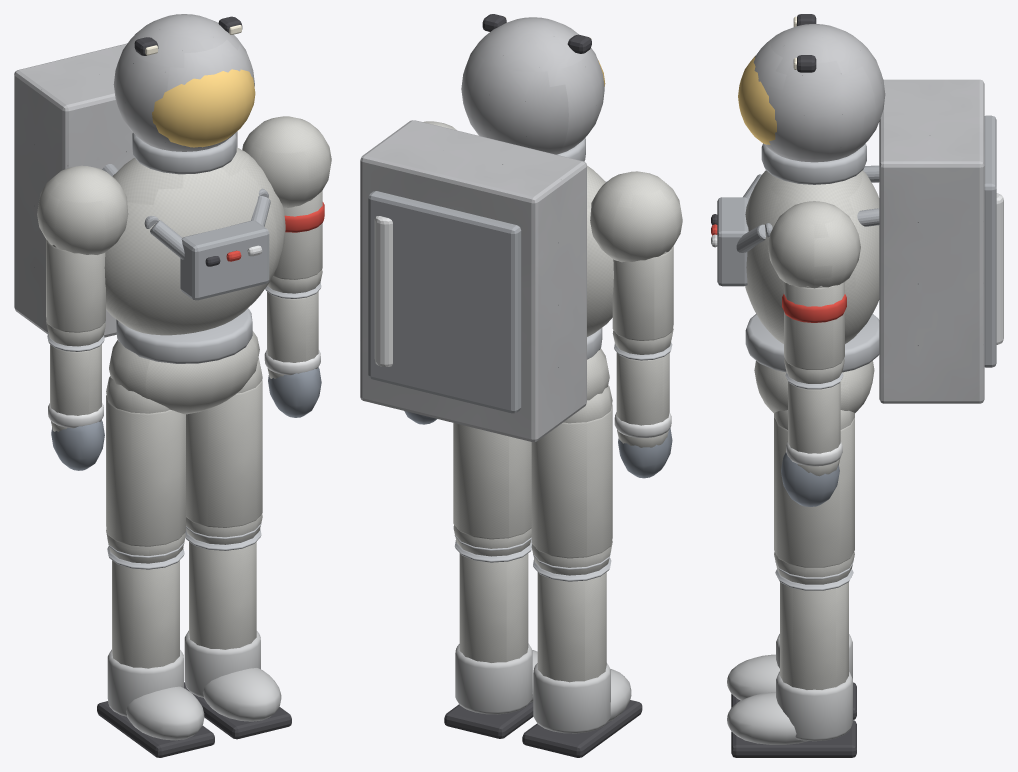
The model's file is astronaut.glb.
The picture shows the model from 3 angles, left to right: view 1: azimuth 30°, elevation 25°; view 2: azimuth 150°, elevation 25°; view 3: azimuth 270°, elevation 25°; orthographic projection.
Parts seen in each view (by area): view 1: Torso, PLSS, Cylinder.026, Cylinder.014, Helmet, Cylinder.030, Cylinder.018, Sphere.012, Sphere, Visor, Sphere.001, Cube (+25 smaller); view 2: PLSS, Cube.004, Helmet, Cylinder.026, Cylinder.014, Cylinder.030, Cylinder.018, Sphere.012, Cylinder.020, Cylinder.019, Cylinder.031, Cylinder.024 (+14 smaller); view 3: PLSS, Helmet, Torso, Cylinder.014, Cylinder.018, Sphere.001, Cylinder.007, Cylinder.019, Cylinder.012, Cube.004, Cylinder, Sphere.011 (+14 smaller).
Boxes of the visible parts, x1,y1,x2,y2 form: Torso: [104, 147, 285, 335]; PLSS: [14, 43, 237, 337]; Cylinder.026: [106, 395, 185, 546]; Cylinder.014: [186, 380, 262, 527]; Helmet: [113, 14, 254, 151]; Cylinder.030: [112, 560, 179, 668]; Cylinder.018: [189, 541, 256, 649]; Sphere.012: [37, 165, 128, 254]; Sphere: [109, 331, 259, 414]; Visor: [152, 69, 255, 147]; Sphere.001: [242, 116, 331, 207]; Cube: [180, 220, 269, 300]; PLSS: [360, 120, 586, 441]; Cube.004: [368, 191, 521, 413]; Helmet: [461, 17, 604, 154]; Cylinder.026: [531, 404, 612, 558]; Cylinder.014: [453, 423, 531, 539]; Cylinder.030: [537, 572, 606, 682]; Cylinder.018: [459, 553, 528, 662]; Sphere.012: [590, 171, 682, 262]; Cylinder.020: [612, 246, 673, 340]; Cylinder.019: [455, 643, 532, 714]; Cylinder.031: [533, 663, 610, 733]; Cylinder.024: [616, 352, 669, 425]; PLSS: [879, 79, 984, 403]; Helmet: [753, 24, 885, 162]; Torso: [745, 170, 879, 343]; Cylinder.014: [774, 418, 854, 567]; Cylinder.018: [780, 582, 848, 689]; Sphere.001: [768, 201, 860, 288]; Cylinder.007: [784, 282, 844, 369]; Cylinder.019: [776, 671, 852, 741]; Cylinder.012: [788, 381, 840, 453]; Cube.004: [984, 115, 996, 367]; Cylinder: [745, 314, 879, 372]; Sphere.011: [727, 692, 807, 744].
Bounding box in the file's own units: 0.81 × 1.9 × 0.7224.
Materials: 12 (2 with a texture image).
